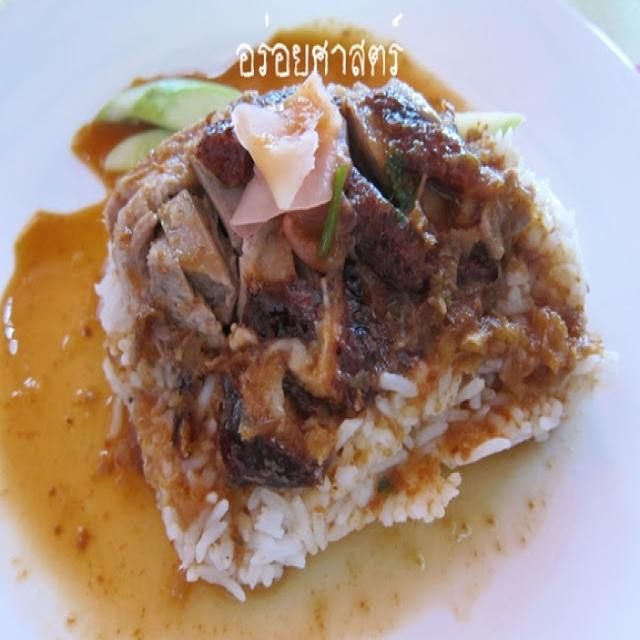米饭主食: (53, 23, 611, 610)
